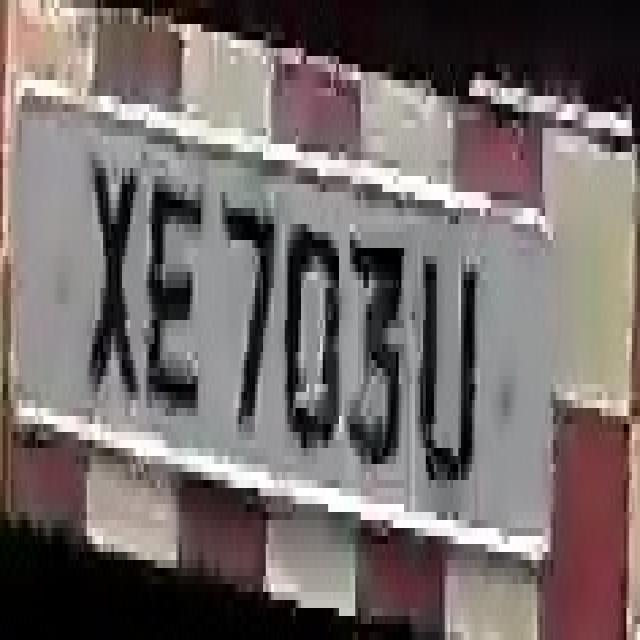0: (285, 208, 339, 480)
3: (347, 208, 401, 504)
7: (220, 176, 279, 464)
E: (146, 152, 198, 432)
U: (415, 224, 477, 520)
X: (81, 120, 144, 432)
